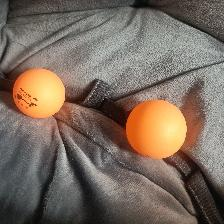YellowBall: (125, 100, 188, 159), (11, 68, 66, 118)
